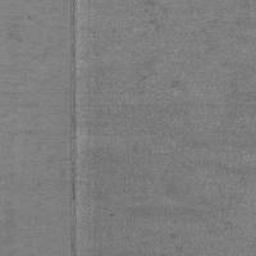Welding line: (65, 0, 78, 256)
